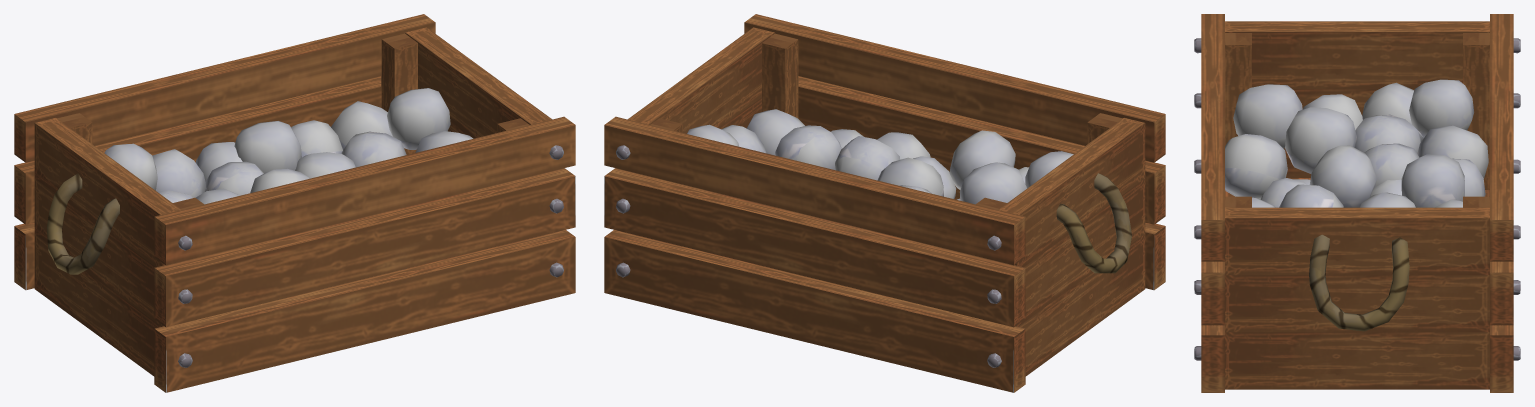
The model's file is FarmCrate_GreenApples.fbx.
3 views of the same model, side by side, from view 1: azimuth 30°, elevation 25°; view 2: azimuth 150°, elevation 25°; view 3: azimuth 270°, elevation 25° (orthographic). The views are drawn at different scales.
Visible parts, largest first — view 1: FarmCrate_GreenApples; view 2: FarmCrate_GreenApples; view 3: FarmCrate_GreenApples.
Part boxes in pixels (box(x1,y1,x2,y2)): FarmCrate_GreenApples: box(14, 14, 575, 392); FarmCrate_GreenApples: box(604, 14, 1165, 392); FarmCrate_GreenApples: box(1194, 14, 1520, 392).
Bounding box in the file's own units: 71.38 × 24.38 × 41.42.
